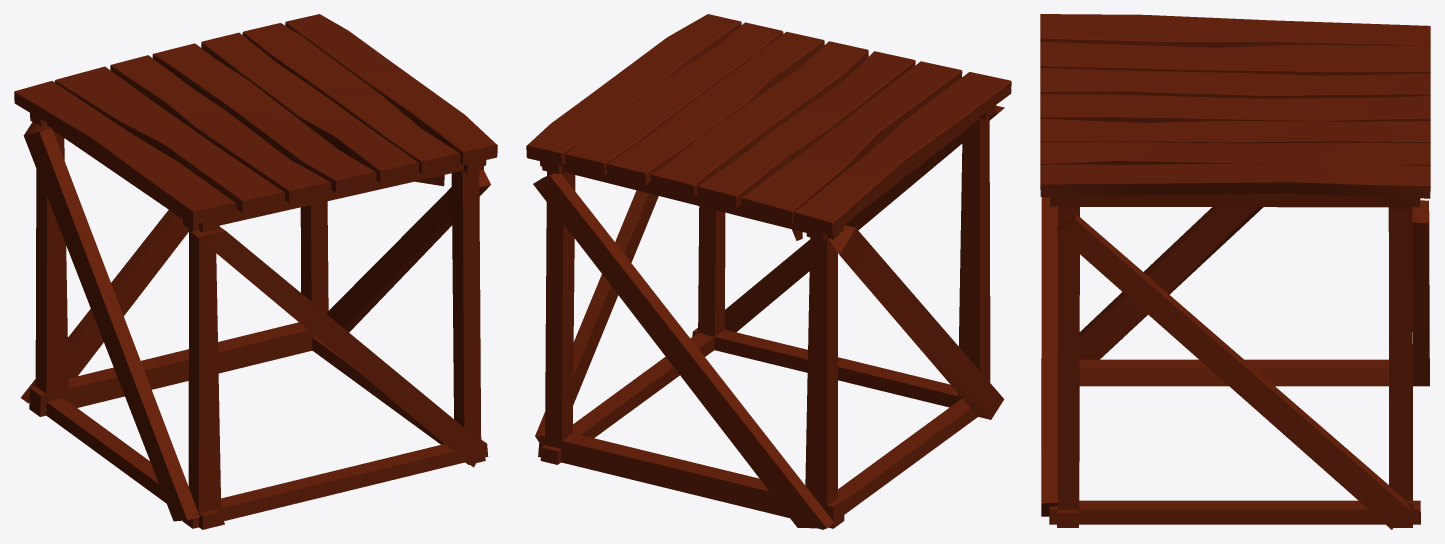
Rendered from echafaudage2.FBX.
The picture shows the model from 3 angles, left to right: view 1: azimuth 30°, elevation 25°; view 2: azimuth 150°, elevation 25°; view 3: azimuth 270°, elevation 25°; orthographic projection. The views are drawn at different scales.
Visible parts, largest first — view 1: Box014; view 2: Box014; view 3: Box014.
Part boxes in pixels (x1,y1,x2,y2): Box014: (14,14,497,529); Box014: (526,14,1011,529); Box014: (1040,14,1430,529).
Bounding box in the file's own units: 2387 × 2400 × 2400.
